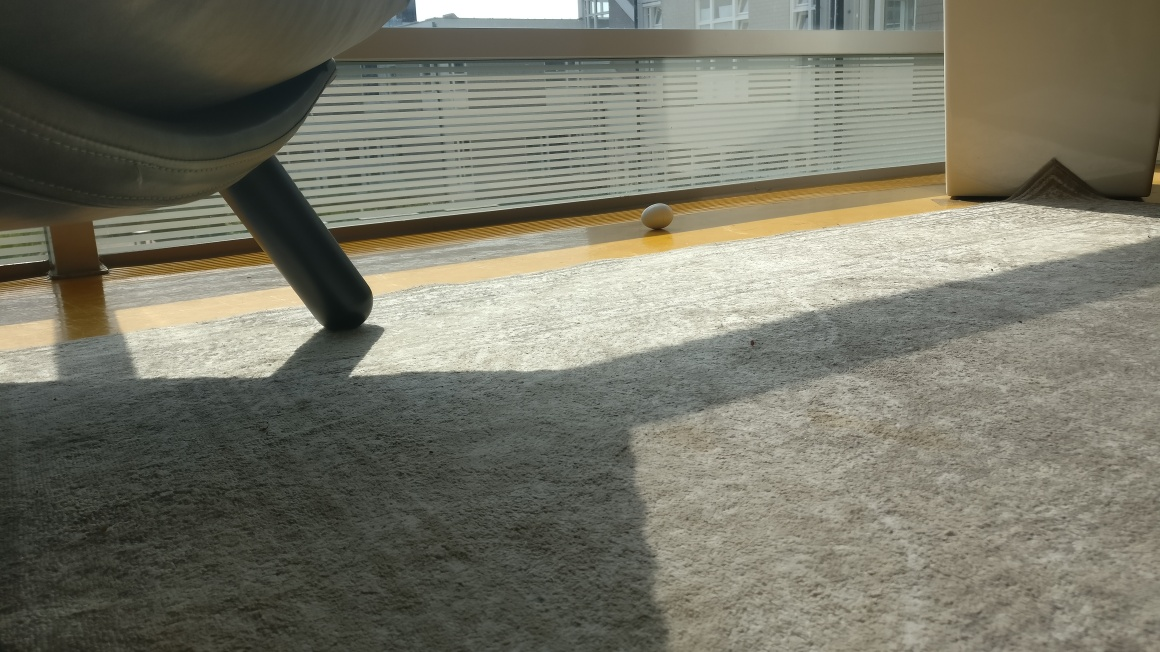egg: (640, 202, 674, 229)
